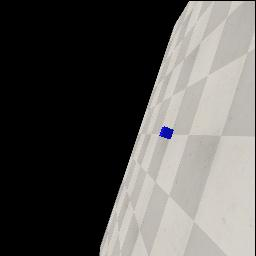box: (158, 125, 174, 140)
